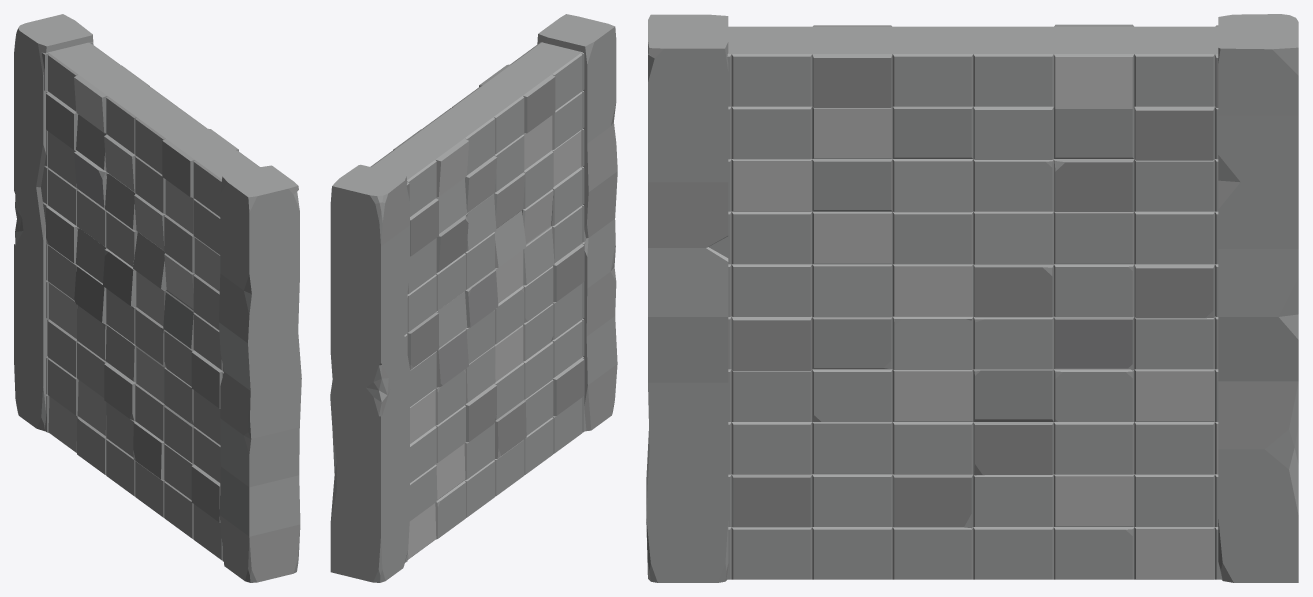
The model's file is StoneWall.fbx.
The picture shows the model from 3 angles, left to right: view 1: azimuth 30°, elevation 25°; view 2: azimuth 150°, elevation 25°; view 3: azimuth 270°, elevation 25°; orthographic projection. The views are drawn at different scales.
Parts seen in each view (by area): view 1: StoneWall; view 2: StoneWall; view 3: StoneWall.
Boxes of the visible parts, <box> form: StoneWall: <box>14,14,301,582</box>; StoneWall: <box>330,14,617,582</box>; StoneWall: <box>646,14,1298,582</box>.
Size of the model in its own units: 26.71 by 183 by 203.
